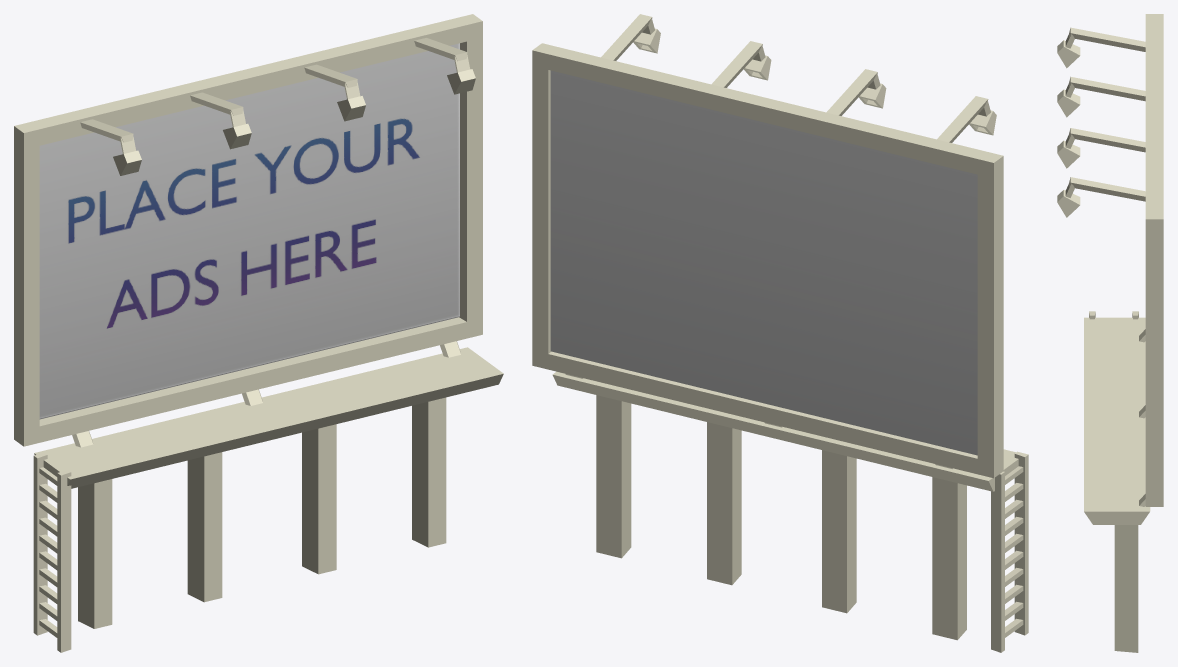
Rendered from Billboard.fbx.
3 views of the same model, side by side, from view 1: azimuth 30°, elevation 25°; view 2: azimuth 150°, elevation 25°; view 3: azimuth 270°, elevation 25° (orthographic). The views are drawn at different scales.
Visible parts, largest first — view 1: Cube.010, Cube.016, Cube.032, Cube.030, Cube.022, Cube.023, Cube.019, Cube.026, Cube.021, Cube.028, Cube.020, Cube.017 (+7 smaller); view 2: Cube.010, Cube.016, Cube.032, Cube.030, Cube.019, Cube.022, Cube.026, Cube.023, Cube.021, Cube.028, Cube.018, Cube.020 (+7 smaller); view 3: Cube.010.
Part boxes in pixels (x1=…): Cube.010: x1=14, y1=14, x2=503, y2=652; Cube.016: x1=266, y1=141, x2=441, y2=263; Cube.032: x1=107, y1=267, x2=263, y2=402; Cube.030: x1=74, y1=218, x2=187, y2=350; Cube.022: x1=375, y1=197, x2=459, y2=335; Cube.023: x1=157, y1=167, x2=265, y2=270; Cube.019: x1=138, y1=88, x2=282, y2=191; Cube.026: x1=39, y1=142, x2=131, y2=269; Cube.021: x1=264, y1=64, x2=372, y2=185; Cube.028: x1=325, y1=53, x2=430, y2=182; Cube.020: x1=225, y1=225, x2=312, y2=328; Cube.017: x1=307, y1=257, x2=389, y2=347; Cube.010: x1=532, y1=14, x2=1028, y2=652; Cube.016: x1=568, y1=175, x2=745, y2=297; Cube.032: x1=748, y1=301, x2=905, y2=437; Cube.030: x1=824, y1=251, x2=937, y2=385; Cube.019: x1=729, y1=115, x2=876, y2=225; Cube.022: x1=550, y1=230, x2=635, y2=369; Cube.026: x1=880, y1=170, x2=977, y2=303; Cube.023: x1=745, y1=200, x2=854, y2=304; Cube.021: x1=632, y1=90, x2=747, y2=219; Cube.028: x1=580, y1=80, x2=685, y2=216; Cube.018: x1=846, y1=150, x2=958, y2=253; Cube.020: x1=698, y1=258, x2=786, y2=362; Cube.010: x1=1057, y1=14, x2=1163, y2=652.
Size of the model in its own units: 2434 by 2590 by 533.
3 materials, 1 textured.
